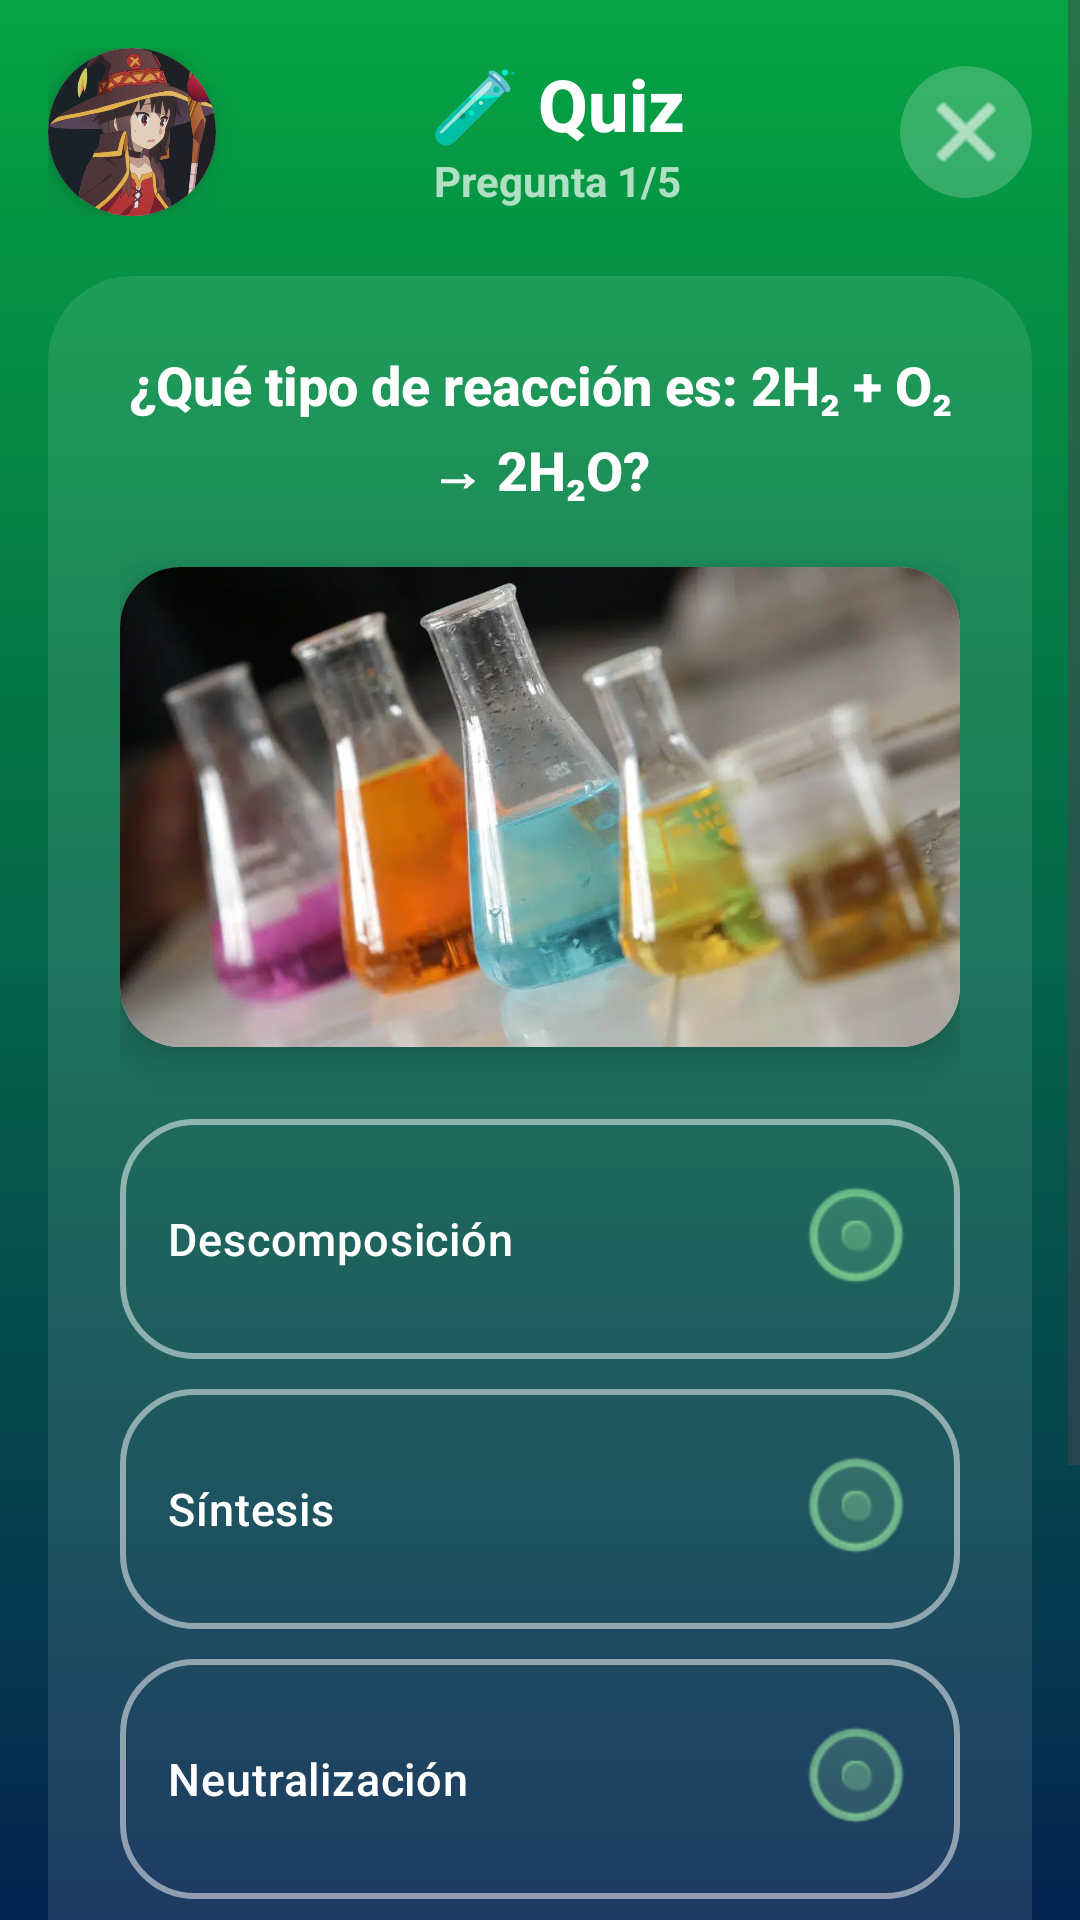

Point at icon controls on the screen. Image size 1080*1920, points as [x,y].
Cerrar: [966,132]
